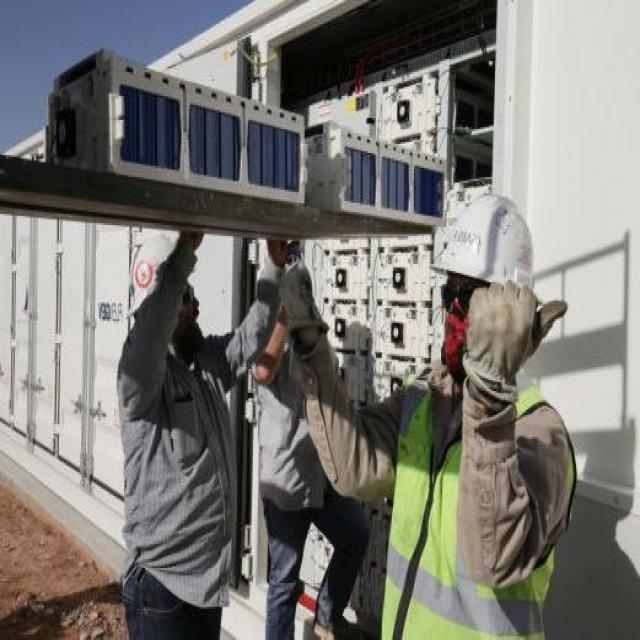Reflective-Jacket: (376, 367, 577, 640)
Safety-Helmet: (427, 185, 559, 318)
